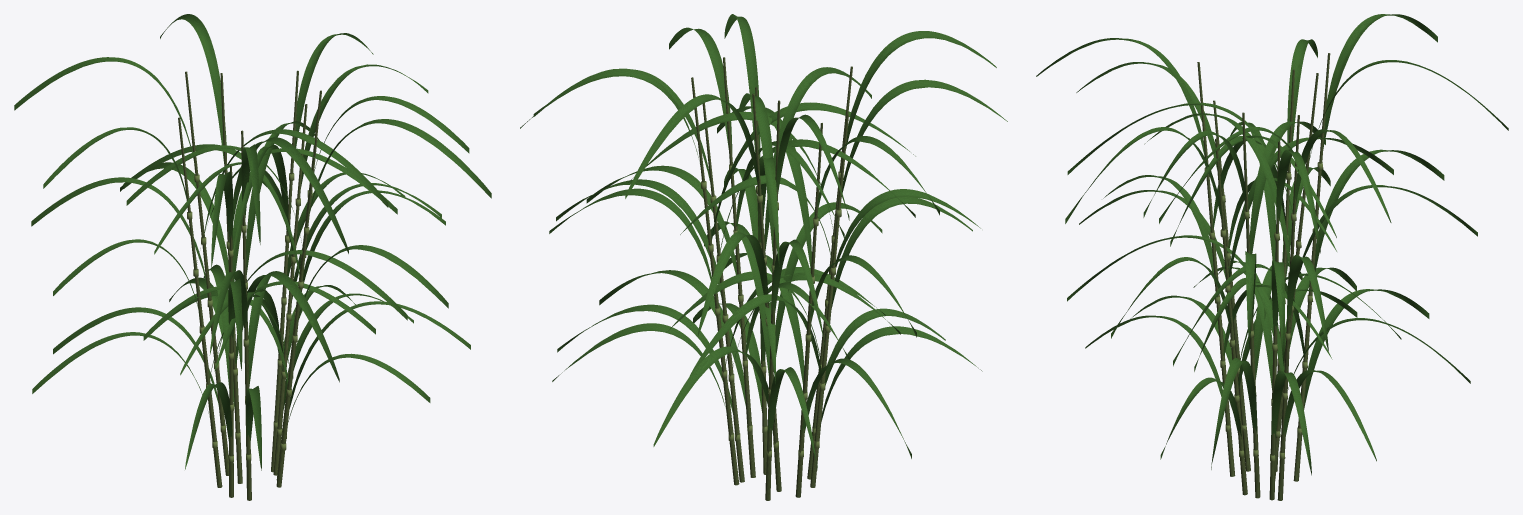
The model's file is rice-2-lite.glb.
3 renders of one model, left to right at view 1: azimuth 30°, elevation 25°; view 2: azimuth 150°, elevation 25°; view 3: azimuth 270°, elevation 25°, orthographic. The views are drawn at different scales.
Parts seen in each view (by area): view 1: grass-leaf, stem, nodes; view 2: grass-leaf, stem, nodes; view 3: grass-leaf, stem, nodes.
Boxes of the visible parts, x1=… form: grass-leaf: x1=14, y1=14, x2=491, y2=470; stem: x1=178, y1=70, x2=321, y2=500; nodes: x1=187, y1=173, x2=312, y2=462; grass-leaf: x1=520, y1=14, x2=1007, y2=470; stem: x1=691, y1=57, x2=852, y2=500; nodes: x1=701, y1=164, x2=843, y2=457; grass-leaf: x1=1036, y1=14, x2=1508, y2=475; stem: x1=1197, y1=53, x2=1330, y2=500; nodes: x1=1204, y1=162, x2=1323, y2=461.
Bounding box in the file's own units: 0.5201 × 0.5328 × 0.5299.
Materials: 3 (2 with a texture image).
